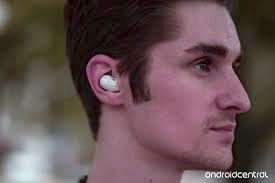earphone: (85, 54, 127, 106)
